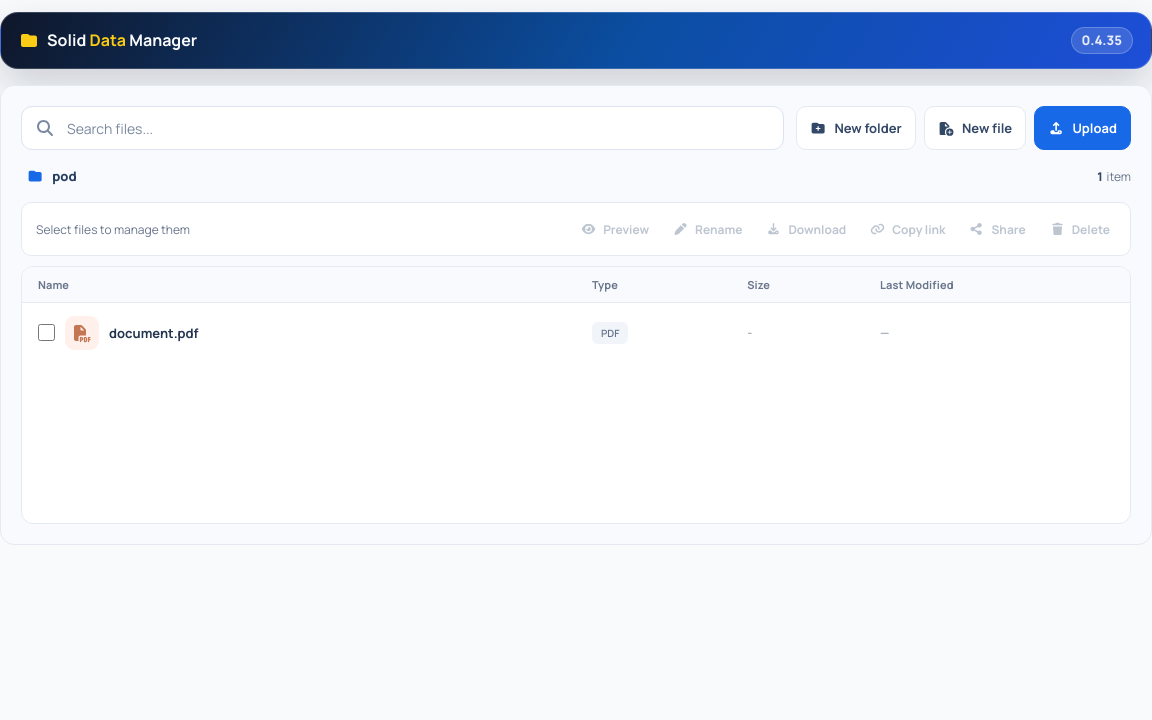
Test: authenticated media previews › keeps unknown binary formats out of the text editor
The width and height of the screenshot is (1152, 720).
Click the text "document.pdf": [576, 333] box [22,303,1130,363]
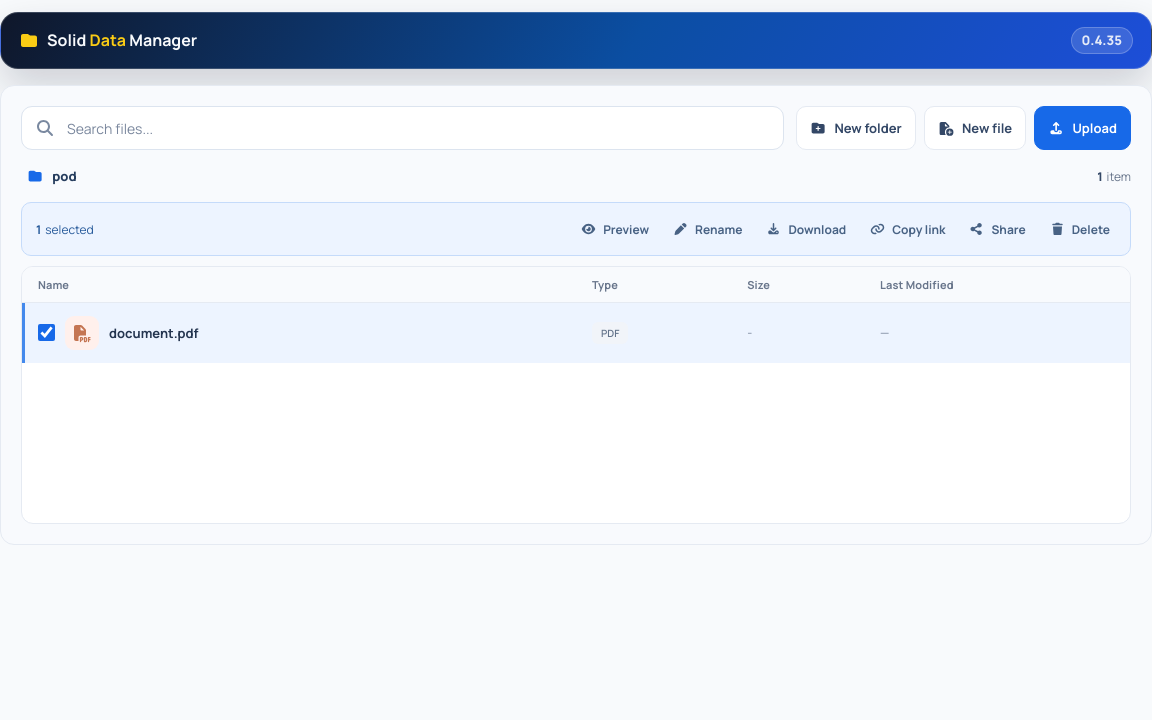
Click the button titled "Preview": [615, 229] box [571,209,659,249]
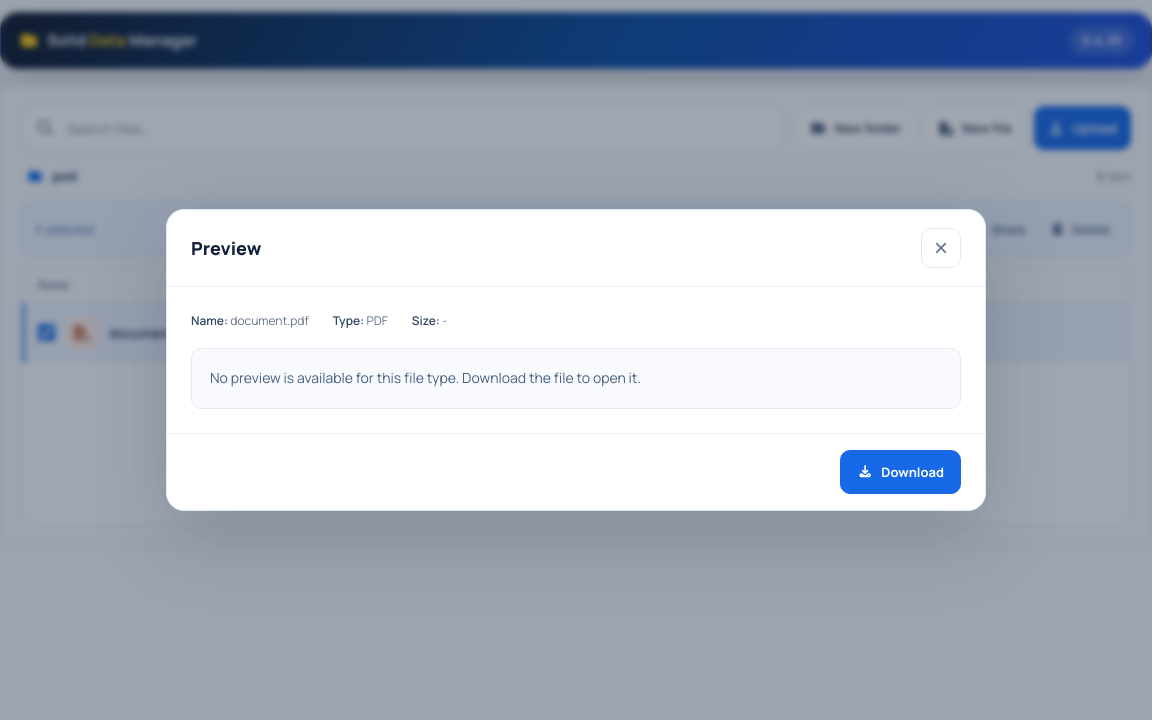
Expected: the text "No preview is available for this file type. Download the file to open it." is shown, [191,348,961,409]
